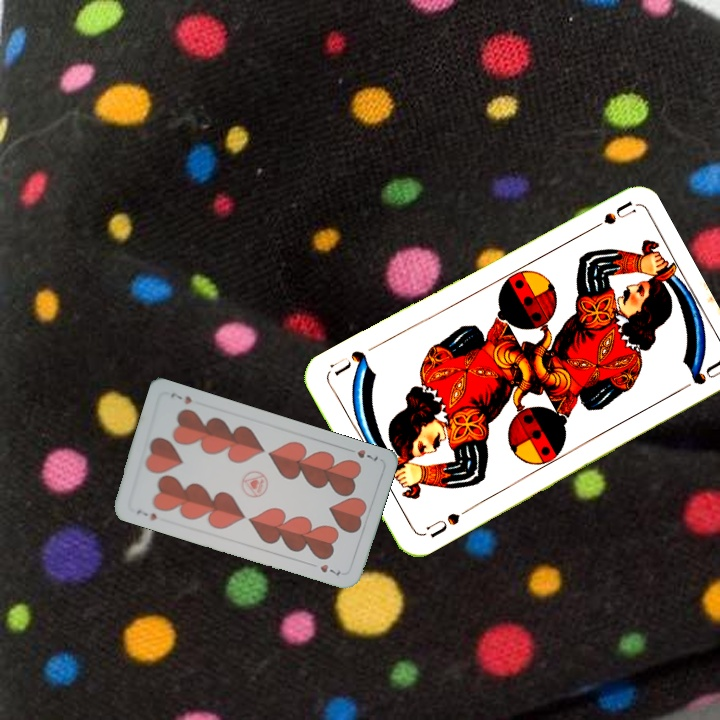H7: (343, 445, 381, 464), (132, 506, 159, 523)
SU: (580, 198, 637, 237), (421, 505, 471, 540)
